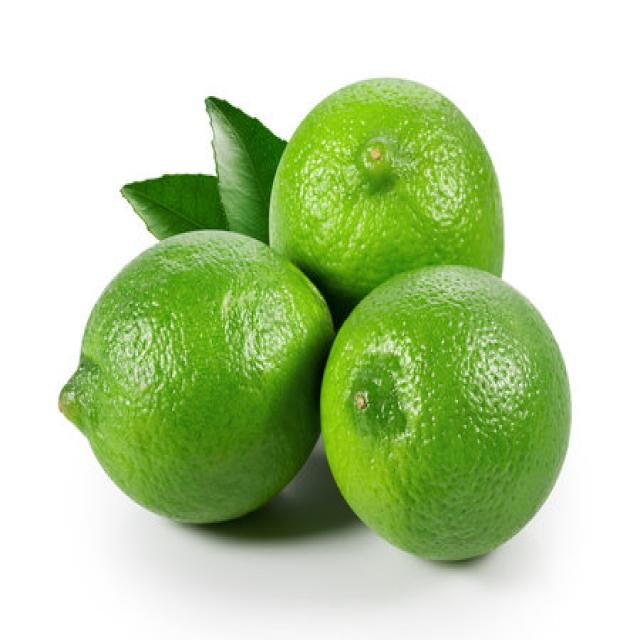Lemon: (57, 226, 334, 524), (318, 261, 572, 562), (266, 75, 505, 302)
